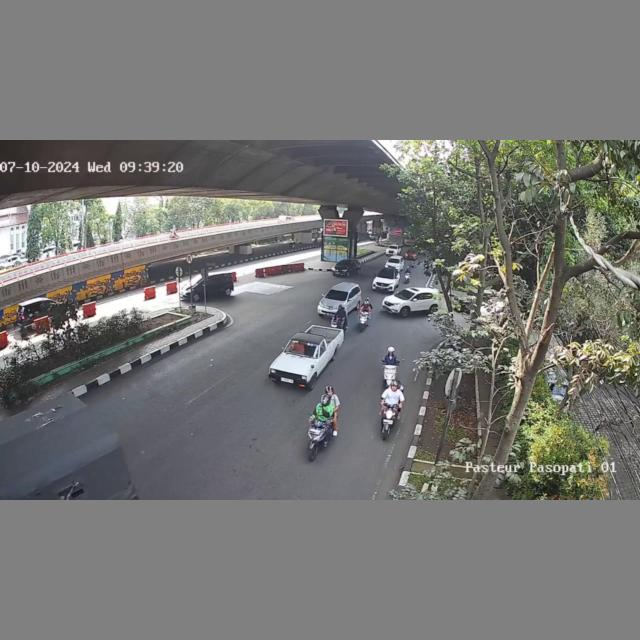windshield: (284, 340, 320, 358), (395, 289, 414, 301), (326, 290, 348, 300), (378, 271, 394, 278)
